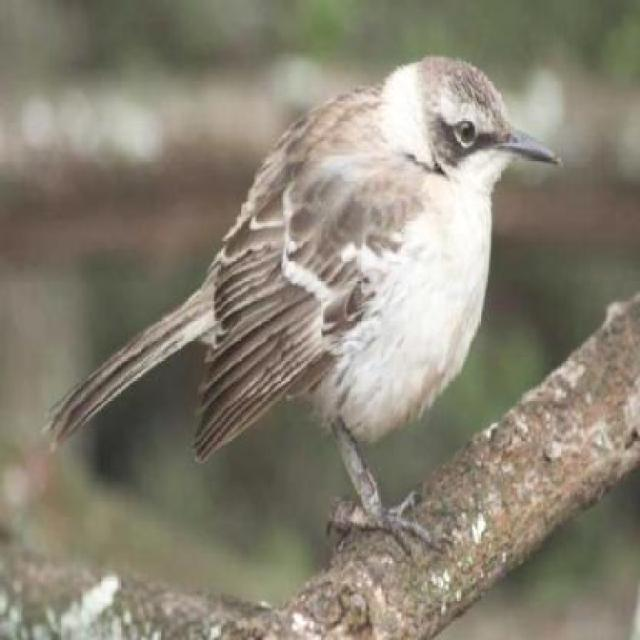Bird: (46, 42, 579, 557)
